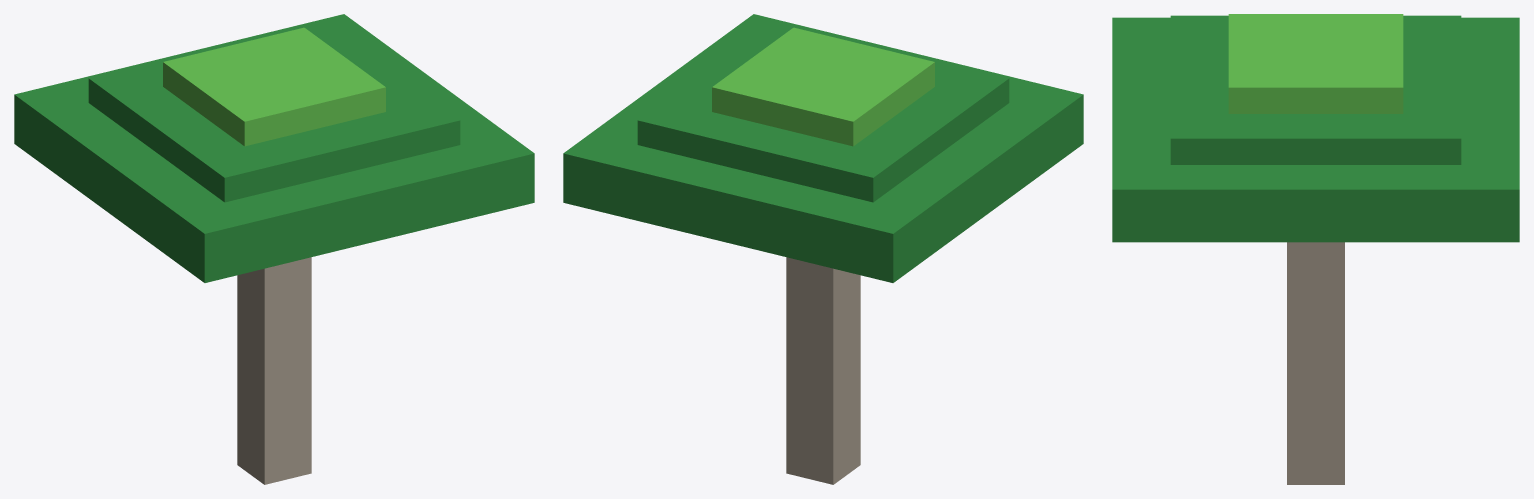
The model's file is chapin_ceiba_lejos.obj.
The picture shows the model from 3 angles, left to right: view 1: azimuth 30°, elevation 25°; view 2: azimuth 150°, elevation 25°; view 3: azimuth 270°, elevation 25°; orthographic projection. The views are drawn at different scales.
Parts seen in each view (by area): view 1: copa, copa_clara, tronco; view 2: copa, copa_clara, tronco; view 3: copa, copa_clara, tronco.
Part boxes in pixels (x1,y1,x2,y2): copa: (14,14,534,282); copa_clara: (163,27,385,146); tronco: (237,257,311,484); copa: (563,14,1083,282); copa_clara: (712,27,934,146); tronco: (786,257,860,484); copa: (1112,15,1519,242); copa_clara: (1228,14,1403,113); tronco: (1287,242,1344,484).
Size of the model in its own units: 0.7778 by 0.8889 by 0.7778.
